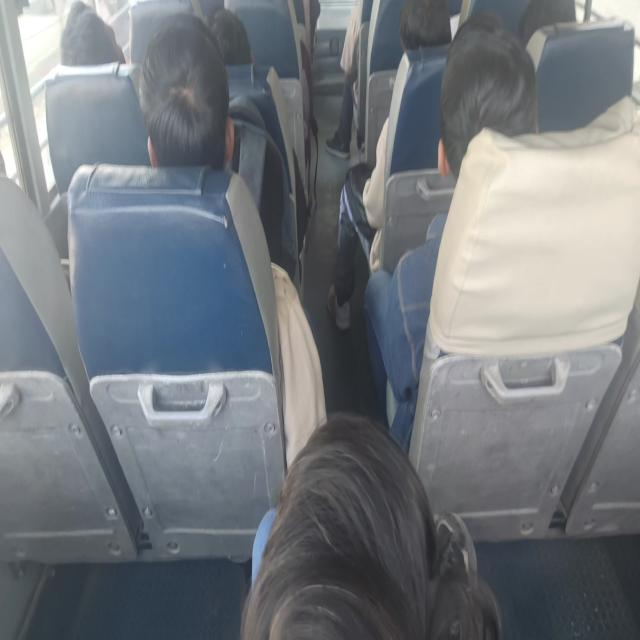person: (138, 12, 327, 468), (363, 12, 539, 450), (239, 411, 502, 638), (326, 0, 452, 331), (138, 12, 235, 170), (327, 114, 389, 330), (325, 0, 364, 159), (59, 0, 126, 66), (208, 7, 252, 65)
